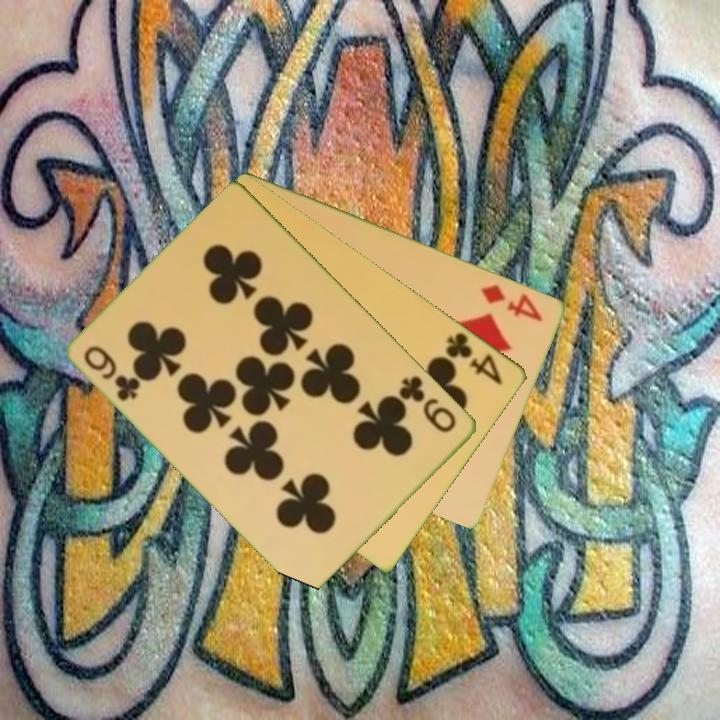4c: (442, 328, 506, 388)
4d: (478, 280, 547, 324)
9c: (395, 371, 460, 436), (81, 342, 145, 405)
